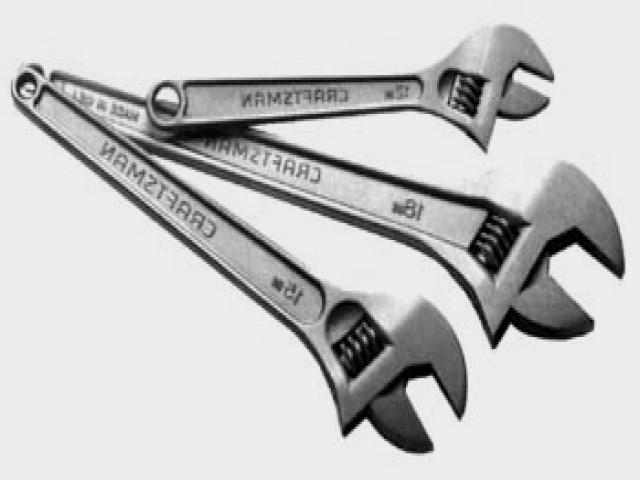Adjustable spanner: (12, 67, 471, 452), (17, 61, 628, 347), (148, 28, 554, 150)
